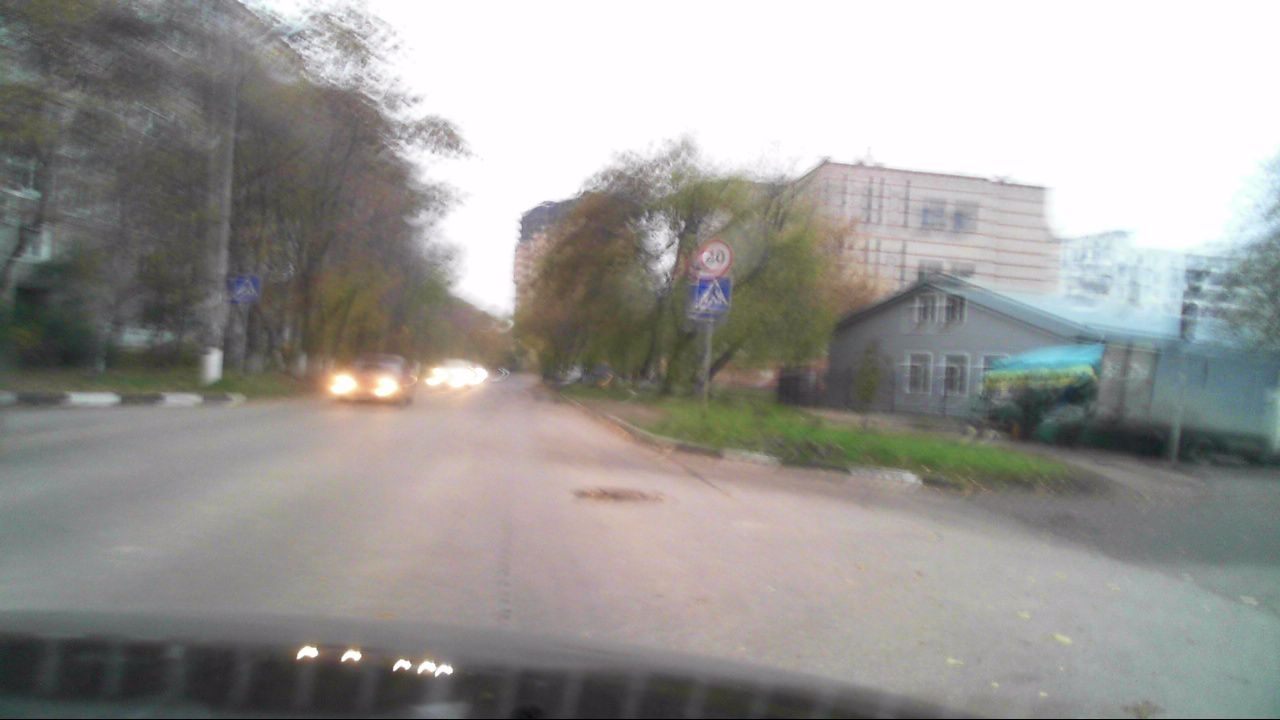speed_warning_40: (700, 241, 732, 272)
